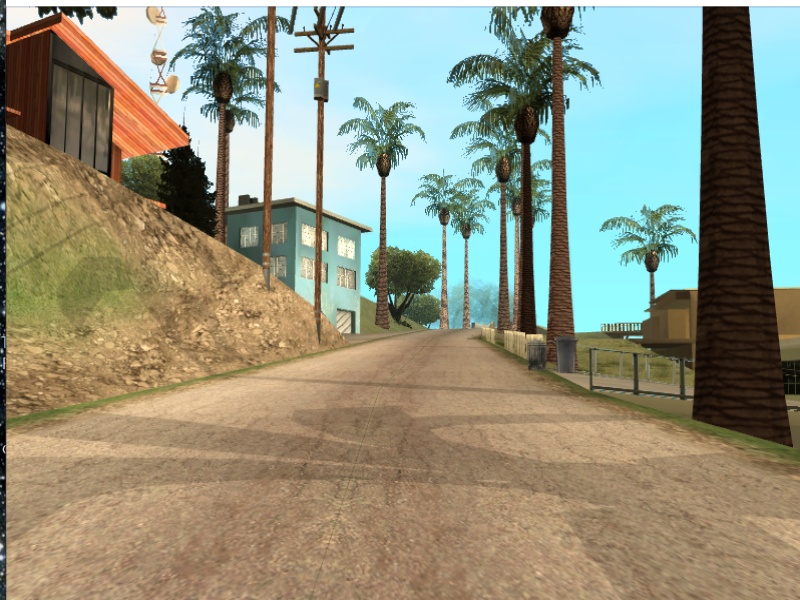pole: (316, 98, 334, 342)
tree: (694, 13, 795, 454), (547, 55, 578, 365), (517, 151, 541, 333), (495, 187, 516, 335), (376, 177, 391, 331), (438, 219, 451, 330)
